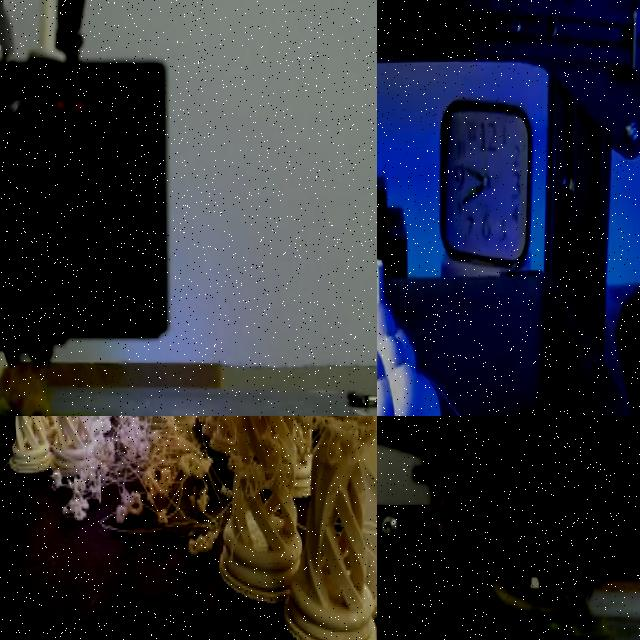spaghetti: (98, 416, 202, 540), (490, 578, 588, 633), (216, 438, 297, 497), (305, 416, 377, 456), (0, 361, 46, 416), (58, 500, 88, 531), (62, 466, 84, 494), (47, 468, 67, 491), (89, 478, 104, 506)
